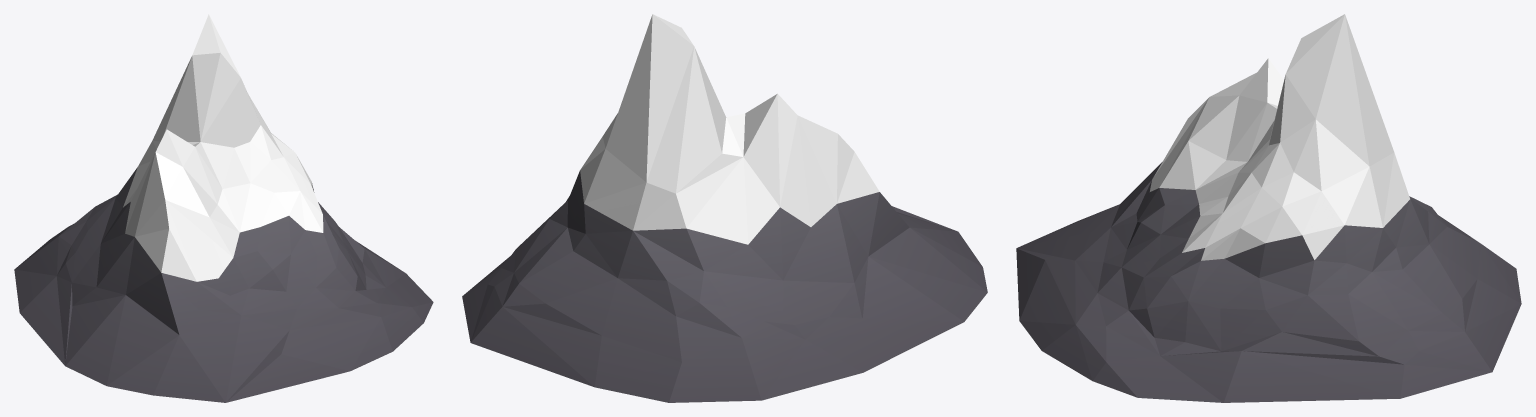
The model's file is Mountain_04.glb.
3 views of the same model, side by side, from view 1: azimuth 30°, elevation 25°; view 2: azimuth 150°, elevation 25°; view 3: azimuth 270°, elevation 25° (orthographic). The views are drawn at different scales.
Visible parts, largest first — view 1: Mountain_04; view 2: Mountain_04; view 3: Mountain_04.
Part boxes in pixels (x1,y1,x2,y2): Mountain_04: (14,14,433,402); Mountain_04: (462,14,987,402); Mountain_04: (1016,14,1521,402).
Size of the model in its own units: 74.14 by 52 by 78.17.
1 material, 1 textured.
